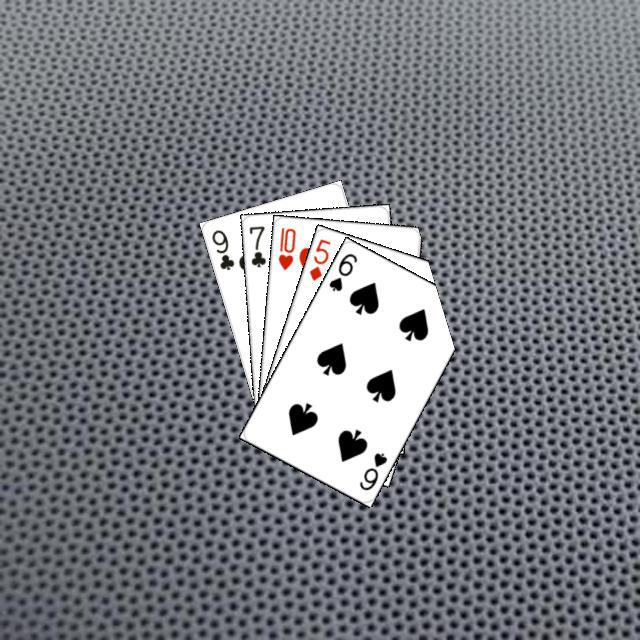10h: (273, 222, 297, 272)
5d: (304, 234, 332, 282)
6s: (324, 248, 359, 293), (354, 447, 389, 492)
7c: (244, 221, 267, 269)
9c: (207, 225, 236, 272)
